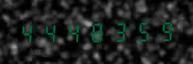eight: (83, 20, 104, 43)
five: (127, 19, 148, 43)
four: (17, 21, 38, 45), (39, 20, 60, 44), (61, 20, 82, 44)
nine: (149, 19, 170, 42)
three: (105, 19, 126, 43)
